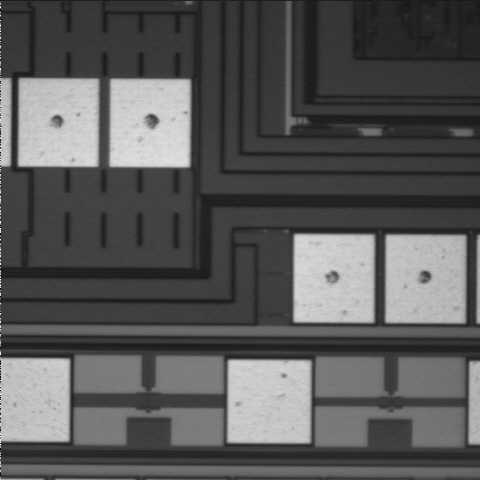pad: (110, 79, 190, 167), (294, 235, 374, 322), (19, 79, 98, 167), (228, 360, 310, 443), (386, 236, 465, 322)
